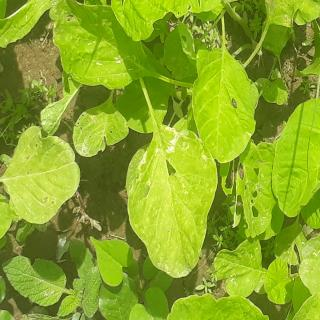karat_putih: (124, 126, 217, 280), (273, 293, 319, 320)
virus_keriting: (45, 0, 144, 98)
